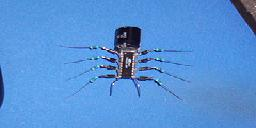Electrolytic-Capacitor: (63, 20, 201, 104)
